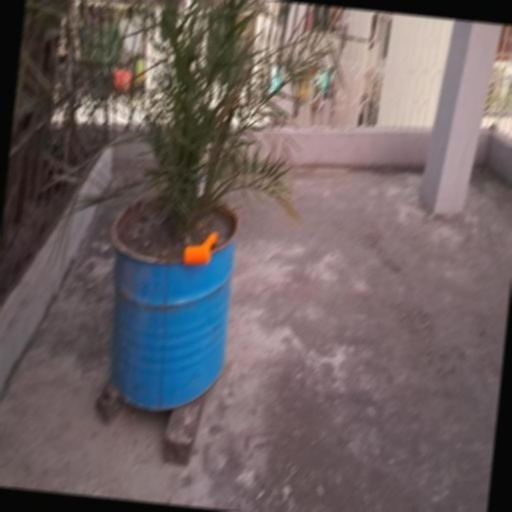mallet: (183, 229, 216, 266)
